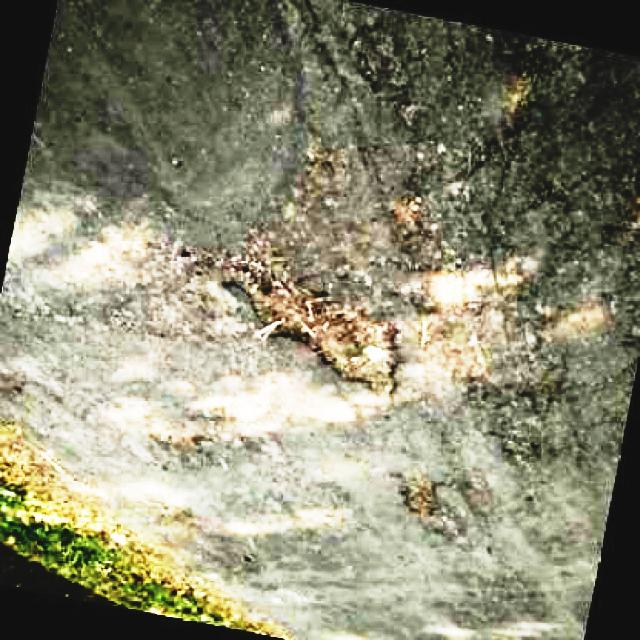pothole: (234, 257, 403, 394), (397, 472, 440, 517)
